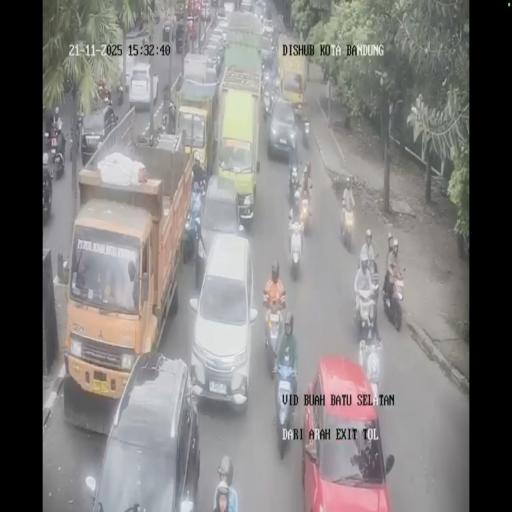3: (173, 70, 218, 176), (78, 21, 124, 98), (222, 8, 263, 82), (173, 0, 187, 20)
car: (90, 354, 200, 509), (197, 172, 244, 265), (80, 105, 118, 164), (266, 98, 298, 162), (128, 62, 158, 109), (203, 32, 225, 80), (259, 26, 274, 60), (175, 21, 189, 53), (216, 16, 230, 41), (186, 16, 199, 39), (162, 17, 173, 43), (254, 0, 266, 19), (200, 2, 211, 21), (240, 0, 252, 13), (217, 3, 226, 17)
truck: (273, 365, 298, 456), (354, 279, 378, 340), (383, 265, 404, 331), (263, 303, 283, 370), (286, 221, 304, 277), (340, 200, 354, 250), (299, 188, 313, 236), (162, 92, 177, 133), (288, 164, 302, 206), (53, 148, 65, 178), (262, 85, 272, 117), (76, 105, 84, 134), (116, 82, 124, 106), (303, 120, 310, 146), (104, 87, 112, 106)
